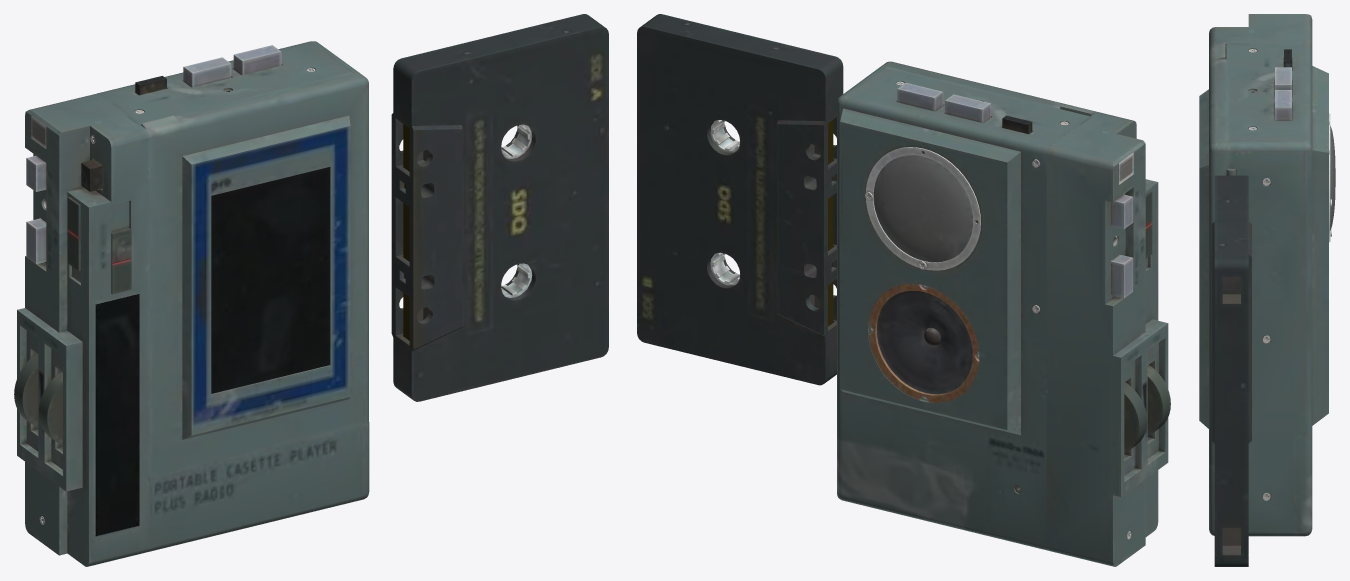
Rendered from portable_cassette_player.glb.
3 views of the same model, side by side, from view 1: azimuth 30°, elevation 25°; view 2: azimuth 150°, elevation 25°; view 3: azimuth 270°, elevation 25° (orthographic). The views are drawn at different scales.
Visible parts, largest first — view 1: portable_cassette_player, portable_cassette_player_lid, portable_cassette_player_casette; view 2: portable_cassette_player, portable_cassette_player_casette, portable_cassette_player_lid; view 3: portable_cassette_player, portable_cassette_player_casette, portable_cassette_player_lid.
Part boxes in pixels (<box>): portable_cassette_player: <box>14,41,369,566</box>; portable_cassette_player_lid: <box>141,72,368,476</box>; portable_cassette_player_casette: <box>391,14,608,401</box>; portable_cassette_player: <box>837,66,1170,566</box>; portable_cassette_player_casette: <box>637,14,843,385</box>; portable_cassette_player_lid: <box>881,61,1096,116</box>; portable_cassette_player: <box>1209,14,1335,536</box>; portable_cassette_player_casette: <box>1211,175,1251,566</box>; portable_cassette_player_lid: <box>1199,42,1235,466</box>.
Bounding box in the file's own units: 0.1723 × 0.1303 × 0.0397.
Materials: 2 (2 with a texture image).
